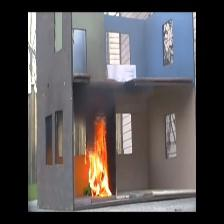fire: (83, 114, 115, 202)
